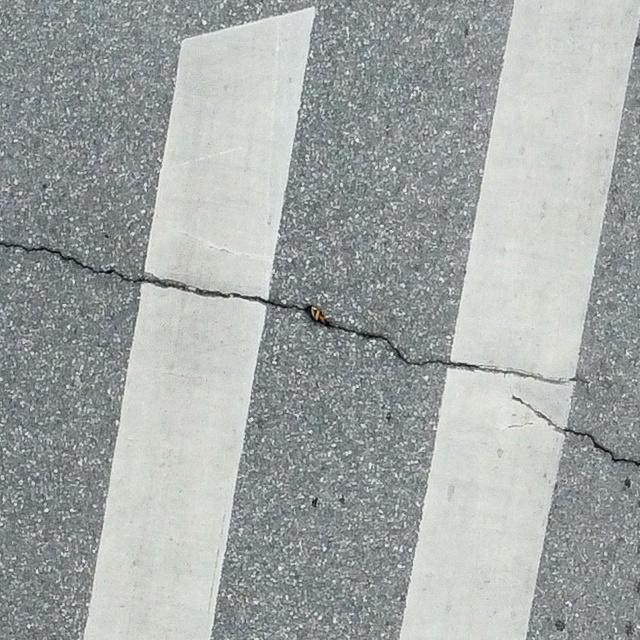TransverseCrack: (1, 239, 594, 385), (510, 394, 640, 464)
